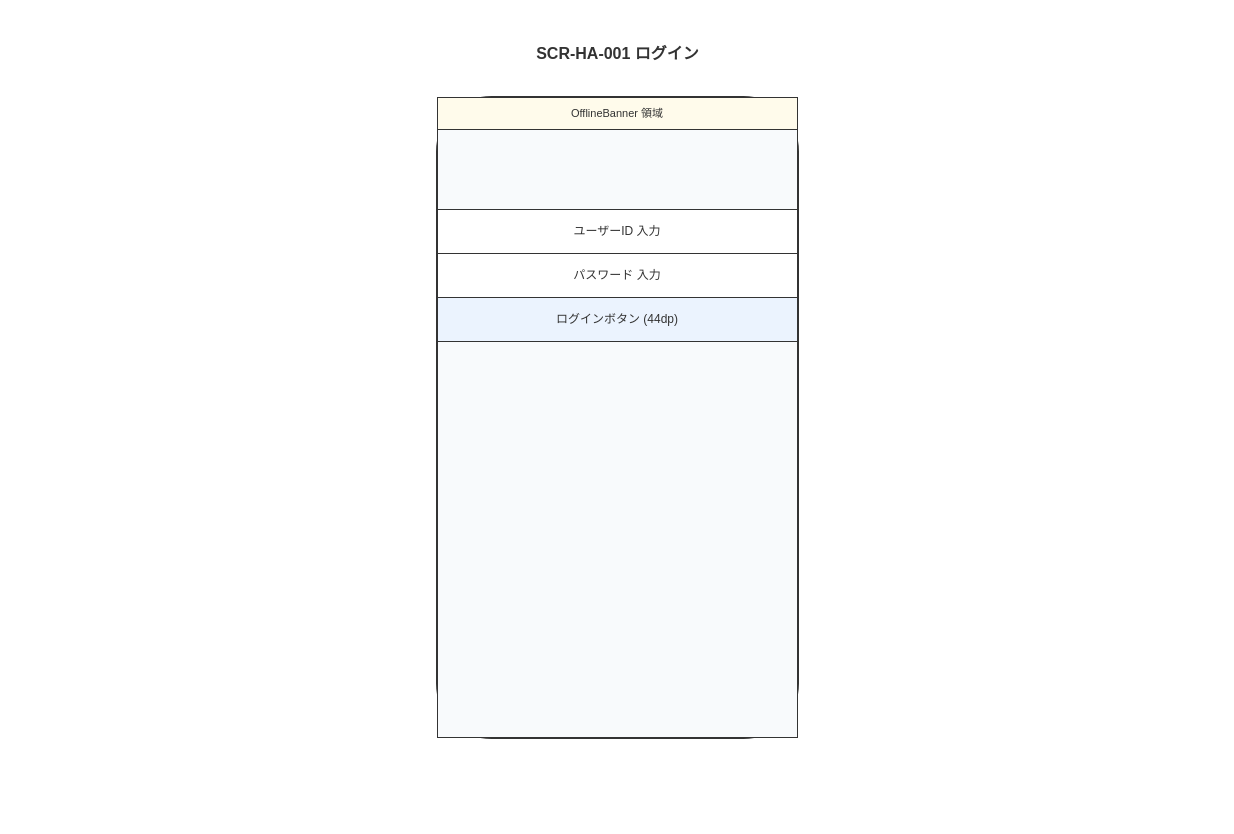
Image size: 1234x834. Some labels were removed from this diagram. Each missing label, with the centre of its shape:
オフライン時: キャッシュ JWT のみ: [617,539]
ロゴ・アプリ名: [617,169]
